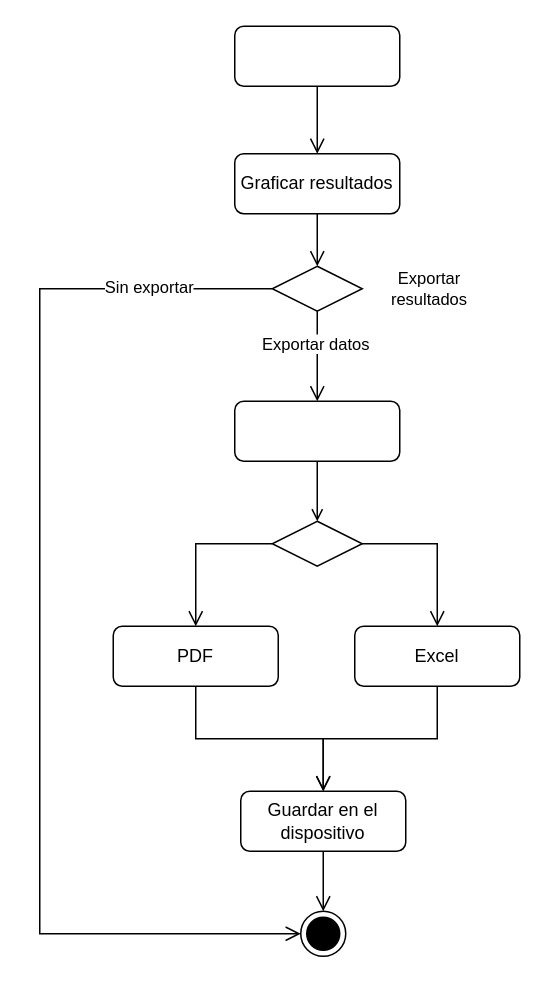
The diagram is 546 pixels wide and 983 high, and some of its shapes have lost their labels. The box of each missing label's shape, as (x1, y1, x2, y2) in pixels:
Insertar datos de producción: (233, 25, 400, 86)
Seleccionar formato: (233, 400, 400, 461)
